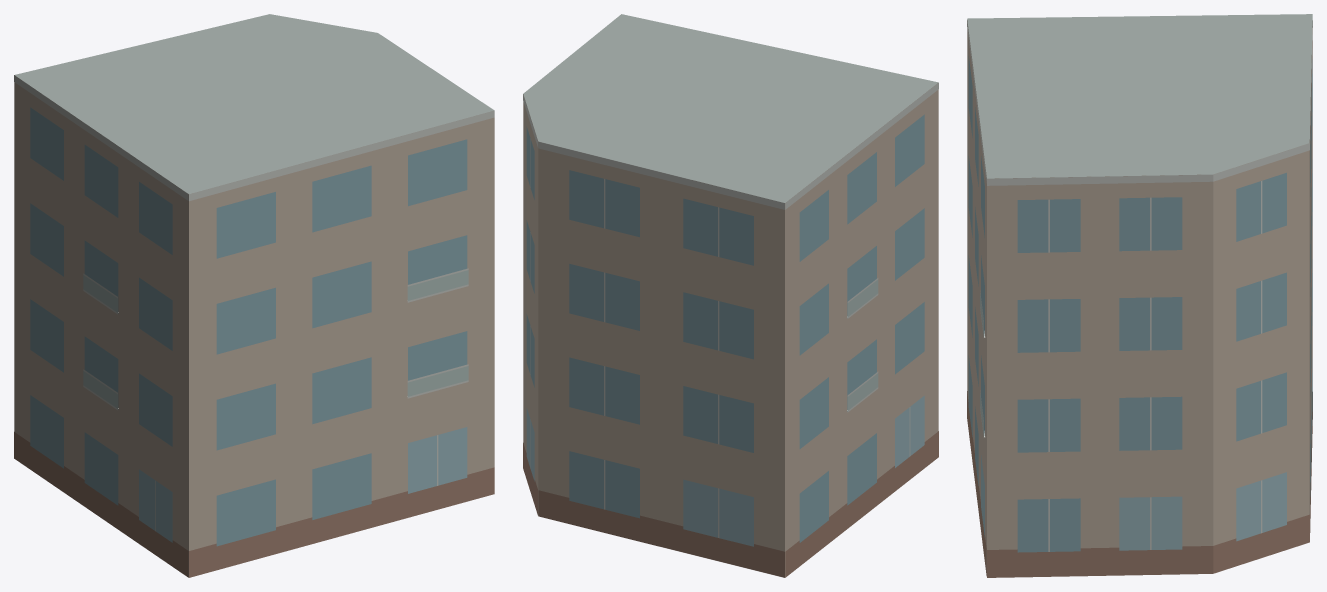
Rendered from survey-upis-32912327.glb.
The picture shows the model from 3 angles, left to right: view 1: azimuth 30°, elevation 25°; view 2: azimuth 150°, elevation 25°; view 3: azimuth 270°, elevation 25°; orthographic projection. The views are drawn at different scales.
Parts seen in each view (by area): view 1: survey-upis-32912327.tmp; view 2: survey-upis-32912327.tmp; view 3: survey-upis-32912327.tmp.
Part boxes in pixels (x1,y1,x2,y2): survey-upis-32912327.tmp: [14, 14, 494, 577]; survey-upis-32912327.tmp: [523, 14, 938, 577]; survey-upis-32912327.tmp: [967, 14, 1312, 577].
Size of the model in its own units: 11.86 by 13.4 by 10.52.
